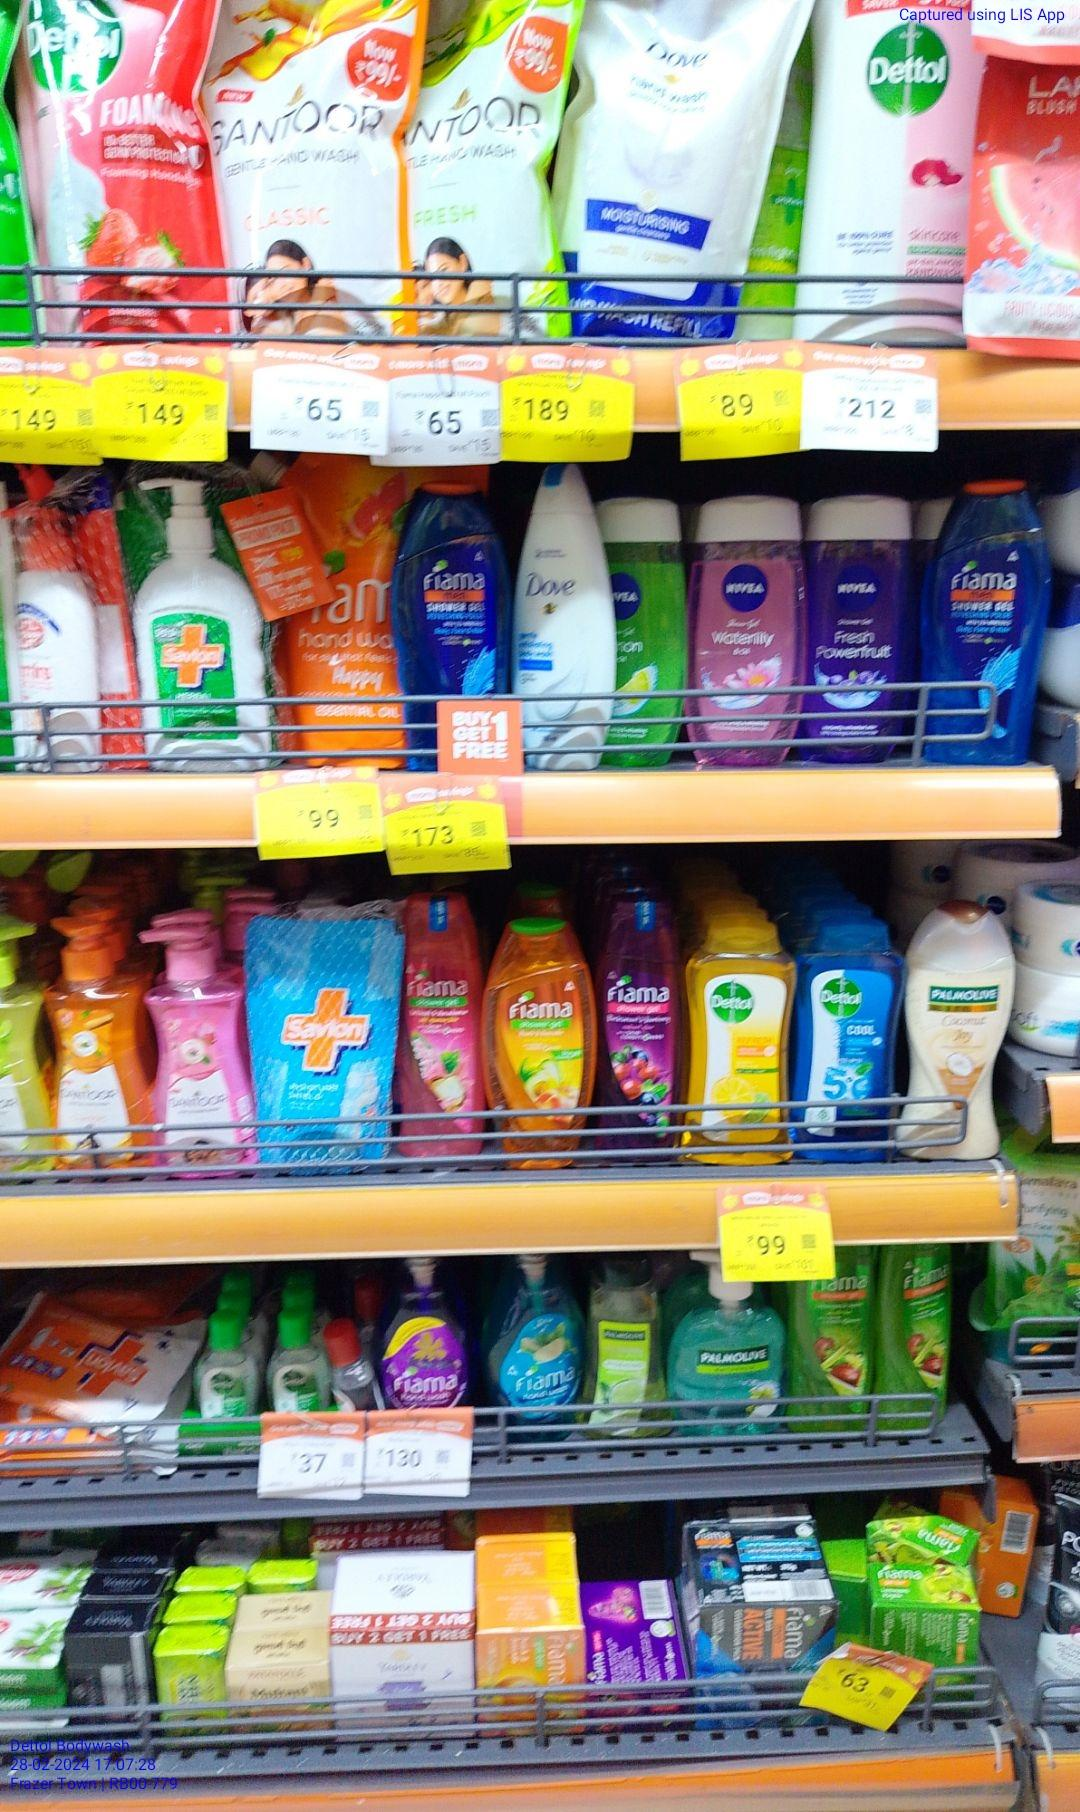Dettol_Bodywash_Cool: (796, 923, 899, 1169)
Dettol_Bodywash_Refresh: (692, 921, 791, 1167)
Dove_Gentle_Exfoliating_Body_Wash_250ML: (513, 457, 612, 767)
Fiama_Shower_Gel_Peach_and_Avocado_250ML: (489, 923, 595, 1173)
Nivea_Shower_Gel_Fresh_Powerfruit_250ML: (810, 483, 904, 762)
Nivea_Shower_Gel_Lemon_and_Oil_250ML: (617, 497, 685, 768)
Nivea_Shower_Gel_Waterlily_and_Oil_250ML: (690, 496, 800, 767)
Palmolive_Coconut_Joy_Exfoliating_Body_Wash_250ML: (904, 906, 1008, 1175)
